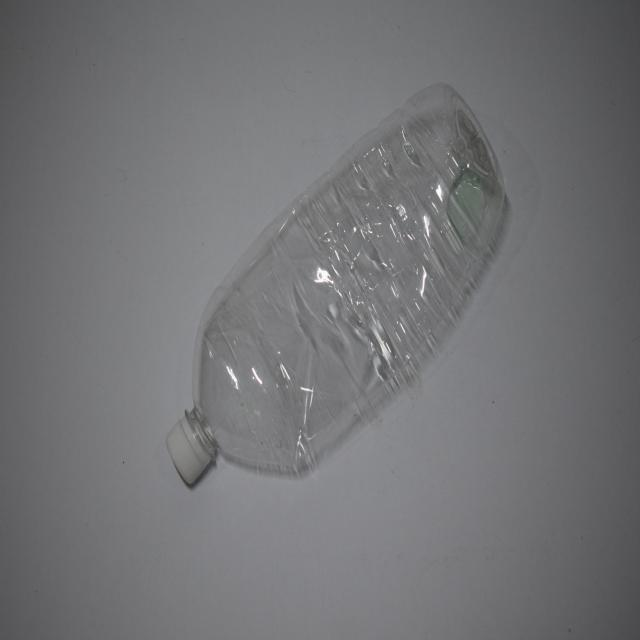empty: (167, 84, 504, 484)
